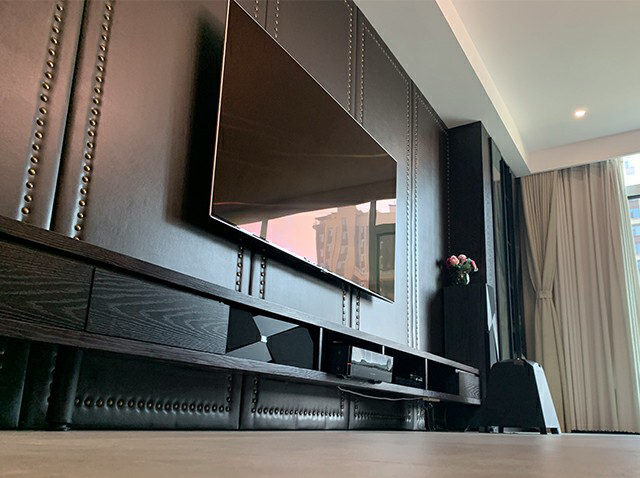cabinet: (1, 216, 484, 432)
curtain: (513, 156, 640, 434)
